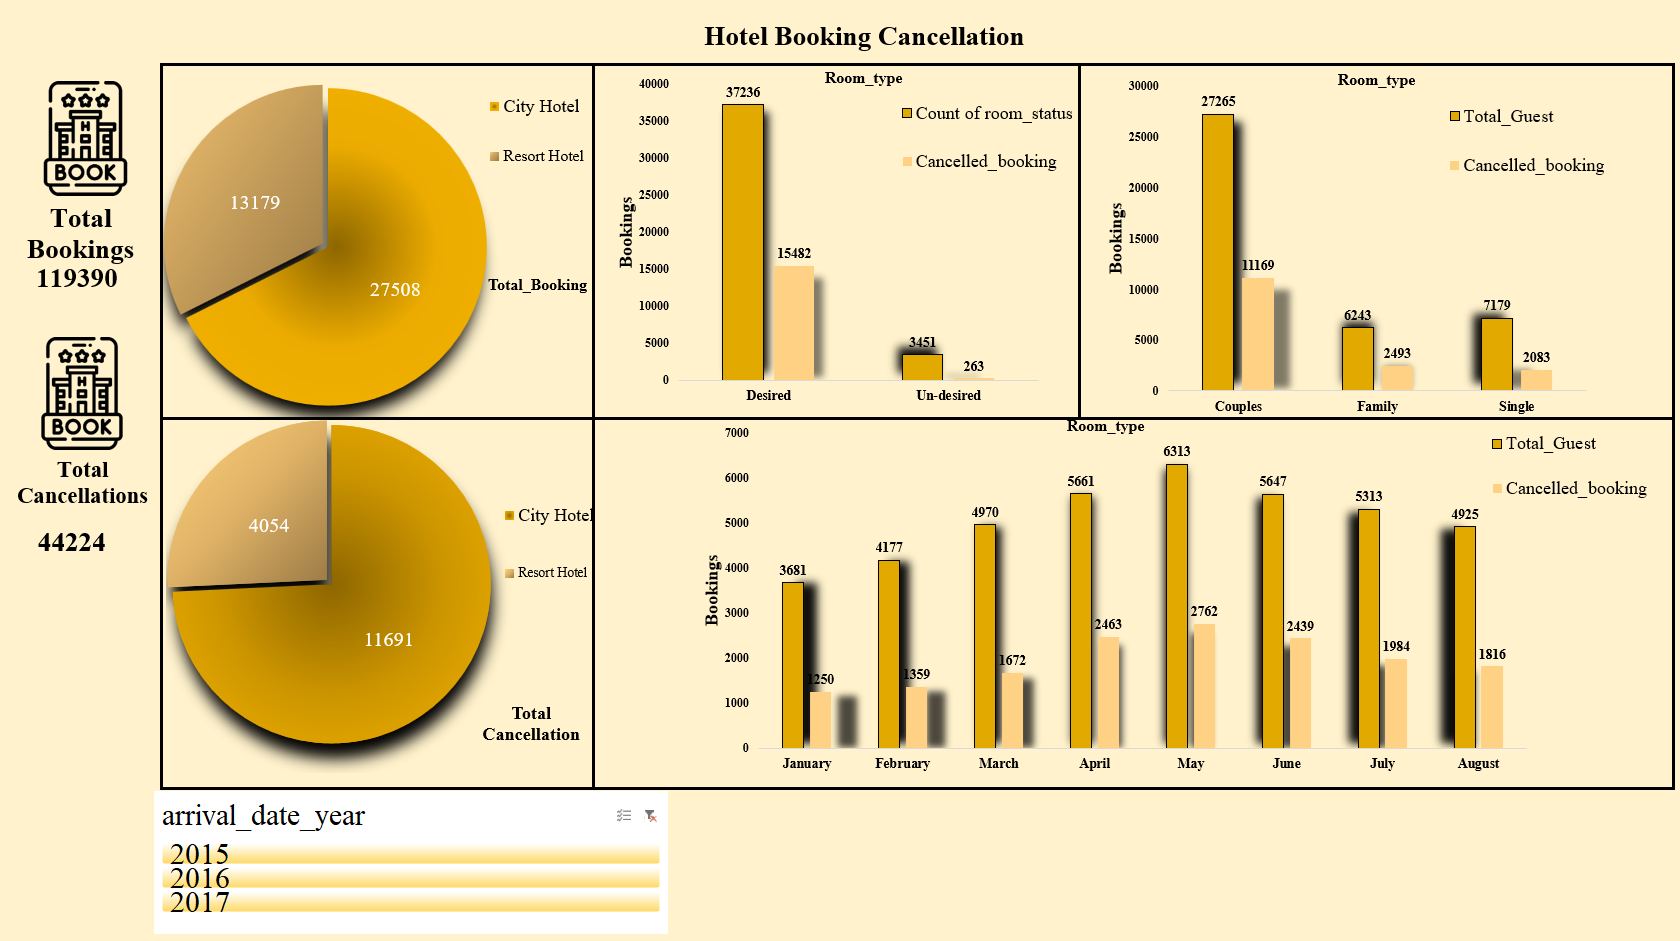

Layout of this report page (visuals, bound fields, positions):
{"tool":"powerbi","page":{"name":"Page 1","canvas":[1280,720],"ordinal":0},"visuals":[{"type":"donutChart","title":"Total Booking","fields":{"Category":["hotel.hotel"],"Y":["CountNonNull(hotel.hotel)"]},"box":[46.5,72.1,320.4,320.4],"z":0},{"type":"donutChart","title":"Total Cancellation ","fields":{"Category":["hotel.hotel"],"Y":["Sum(hotel.is_canceled)"]},"box":[46.5,401.1,320.4,319.2],"z":1000},{"type":"clusteredColumnChart","title":"Cancel booking based on room type","fields":{"Category":["hotel.Room_type"],"Y":["CountNonNull(hotel.Room_type)","Sum(hotel.is_canceled)"]},"box":[382.8,112.5,428.1,279.9],"z":2000},{"type":"clusteredBarChart","title":"Total Guest and Cancellation","fields":{"Category":["hotel.Guest_type"],"Y":["CountNonNull(hotel.Guest_type)","Sum(hotel.is_canceled)"]},"box":[824.7,112.5,396.6,279.9],"z":3000},{"type":"clusteredColumnChart","title":"Total guest and cancelation based on arrival month","fields":{"Category":["hotel.arrival_date_month"],"Y":["CountNonNull(hotel.Guest_type)","Sum(hotel.is_canceled)"]},"box":[382.8,400.7,838.4,319.7],"z":4000},{"type":"slicer","title":"Years","fields":{"Values":["hotel.reservation_status_date.Variation.Date Hierarchy.Year"]},"box":[824.7,11,396.6,91.9],"z":5000},{"type":"textbox","box":[382.8,12.3,428.1,90.6],"z":6000}]}

Visuals, with their boxes in screenshot pixels (x1, y1, x2, y2), scaled from the page's 1280x720 canvas onto the 1680x941 screenshot:
"Total Booking" donutChart: [left=61, top=94, right=482, bottom=513]
"Total Cancellation " donutChart: [left=61, top=524, right=482, bottom=940]
"Cancel booking based on room type" clusteredColumnChart: [left=502, top=147, right=1064, bottom=513]
"Total Guest and Cancellation" clusteredBarChart: [left=1082, top=147, right=1603, bottom=513]
"Total guest and cancelation based on arrival month" clusteredColumnChart: [left=502, top=524, right=1603, bottom=940]
"Years" slicer: [left=1082, top=14, right=1603, bottom=134]
textbox: [left=502, top=16, right=1064, bottom=134]
